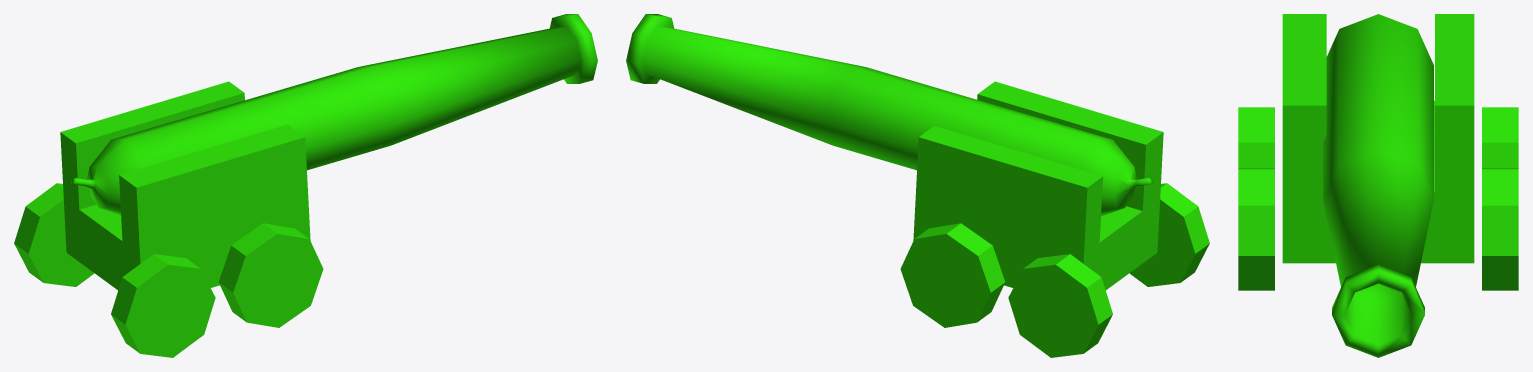
File: canon-SP.fbx
3 renders of one model, left to right at view 1: azimuth 30°, elevation 25°; view 2: azimuth 150°, elevation 25°; view 3: azimuth 270°, elevation 25°, orthographic. The views are drawn at different scales.
Parts seen in each view (by area): view 1: Cylinder.065; view 2: Cylinder.065; view 3: Cylinder.065.
Boxes of the visible parts, <box> form: Cylinder.065: <box>14,14,597,357</box>; Cylinder.065: <box>626,14,1209,357</box>; Cylinder.065: <box>1238,14,1518,357</box>.
Bounding box in the file's own units: 567 × 202 × 214.
